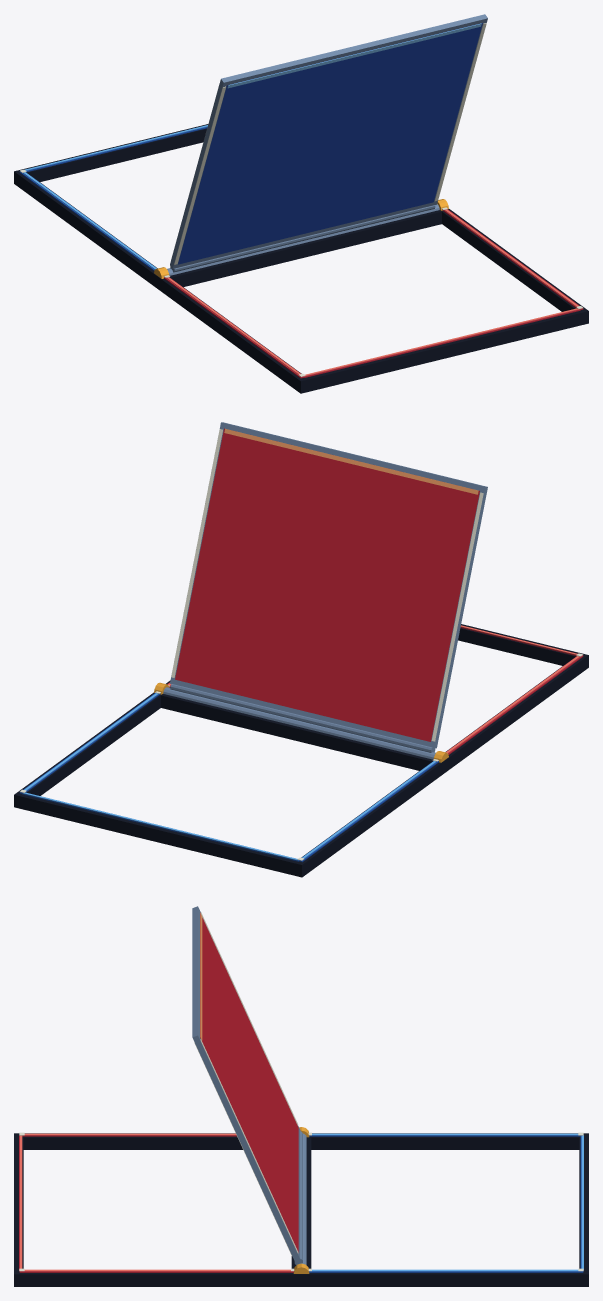
Rendered from jump_flip_pair_flip_15.obj.
The picture shows the model from 3 angles, top to bottom: view 1: azimuth 30°, elevation 25°; view 2: azimuth 150°, elevation 25°; view 3: azimuth 270°, elevation 25°; orthographic projection.
Parts seen in each view (by area): view 1: blue_top, red_end_shell, red_side_shell, reversible_leaf, blue_end_shell, blue_side_shell, red_border, red_rim_light, blue_side_trim, leaf_hinge, blue_end_bar, blue_border (+2 smaller); view 2: red_bottom, blue_end_shell, reversible_leaf, blue_side_shell, red_side_shell, red_side_trim, hinge_axle, red_end_shell, leaf_hinge, blue_rim_light, blue_border, red_end_bar (+2 smaller); view 3: red_bottom, blue_side_shell, red_side_shell, reversible_leaf, blue_rim_light, blue_end_shell, red_rim_light, blue_border, red_end_shell, red_border, red_side_trim, hinge_axle.
Part boxes in pixels (<box>): blue_top: <box>178,23,482,264</box>; red_end_shell: <box>160,209,588,393</box>; red_side_shell: <box>157,209,588,393</box>; reversible_leaf: <box>170,14,487,268</box>; blue_end_shell: <box>14,124,208,280</box>; blue_side_shell: <box>14,169,157,288</box>; red_border: <box>164,209,583,378</box>; red_rim_light: <box>166,209,578,376</box>; blue_side_trim: <box>174,23,486,264</box>; leaf_hinge: <box>170,205,435,272</box>; blue_end_bar: <box>227,23,481,88</box>; blue_border: <box>19,126,207,270</box>; red_bottom: <box>175,428,479,741</box>; blue_end_shell: <box>14,692,445,877</box>; reversible_leaf: <box>170,422,487,748</box>; blue_side_shell: <box>14,693,445,877</box>; red_side_shell: <box>166,653,588,768</box>; red_side_trim: <box>171,429,483,741</box>; hinge_axle: <box>163,687,435,759</box>; red_end_shell: <box>445,624,588,770</box>; leaf_hinge: <box>170,684,435,752</box>; blue_rim_light: <box>23,693,436,860</box>; blue_border: <box>19,693,438,862</box>; red_end_bar: <box>224,428,478,494</box>; red_bottom: <box>200,912,298,1252</box>; blue_side_shell: <box>301,1133,588,1286</box>; red_side_shell: <box>14,1133,301,1286</box>; reversible_leaf: <box>192,906,300,1261</box>; blue_rim_light: <box>312,1133,583,1271</box>; blue_end_shell: <box>301,1133,588,1286</box>; red_rim_light: <box>20,1133,290,1271</box>; blue_border: <box>309,1135,583,1272</box>; red_end_shell: <box>14,1133,300,1286</box>; red_border: <box>19,1135,293,1272</box>; red_side_trim: <box>200,912,298,1253</box>; hinge_axle: <box>298,1133,306,1264</box>.
Bounding box in the file's own units: 11.6 × 9.42 × 20.
